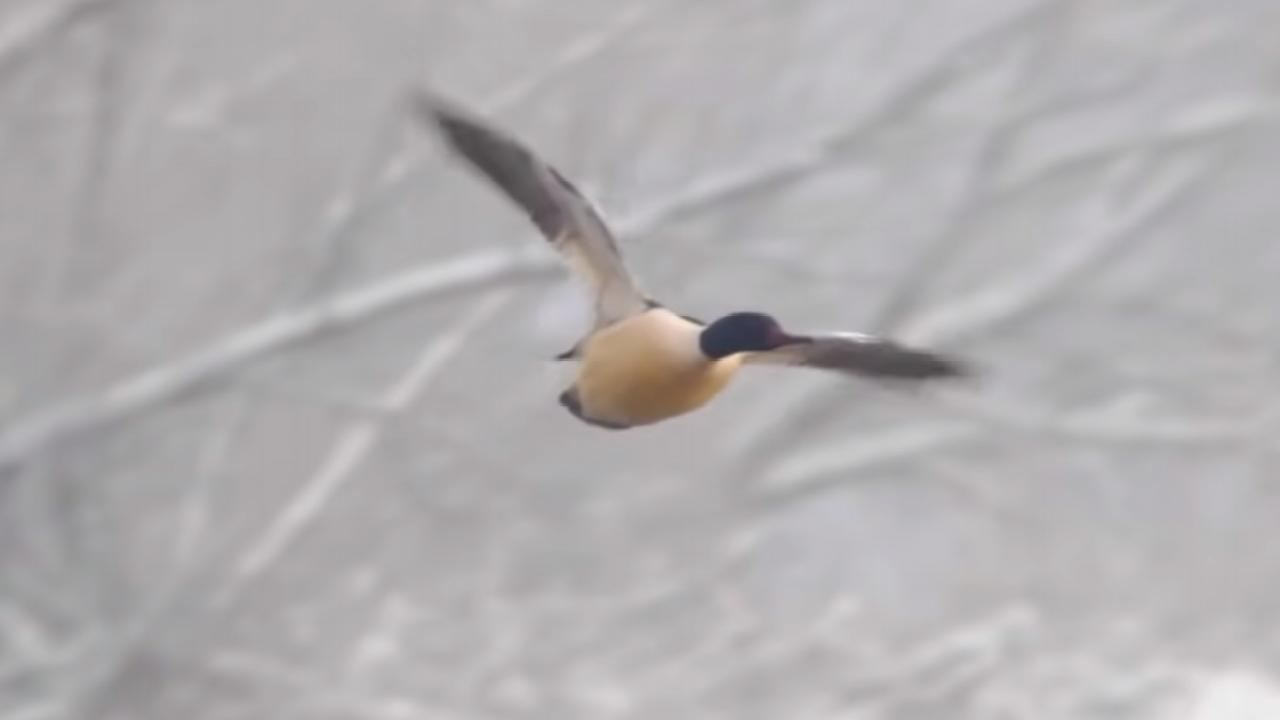Bird: (373, 68, 987, 444)
